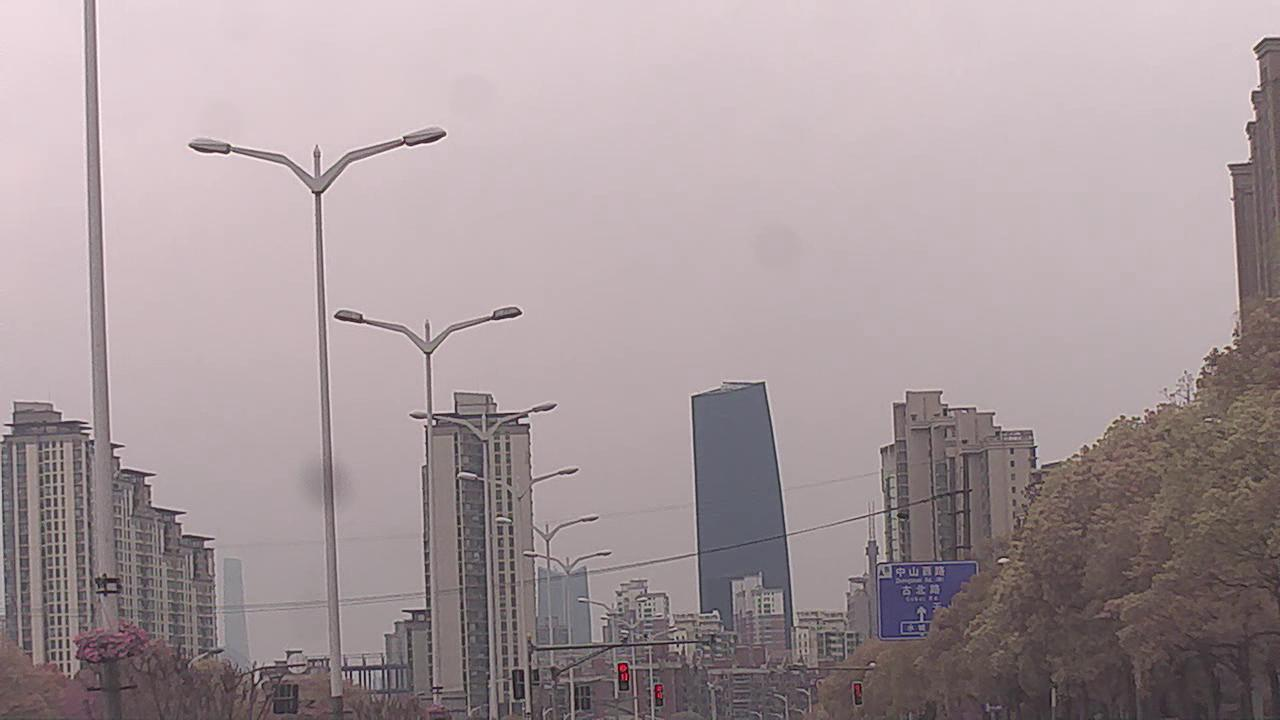traffic_light: (617, 662, 630, 687), (852, 680, 865, 705), (654, 680, 664, 707)
